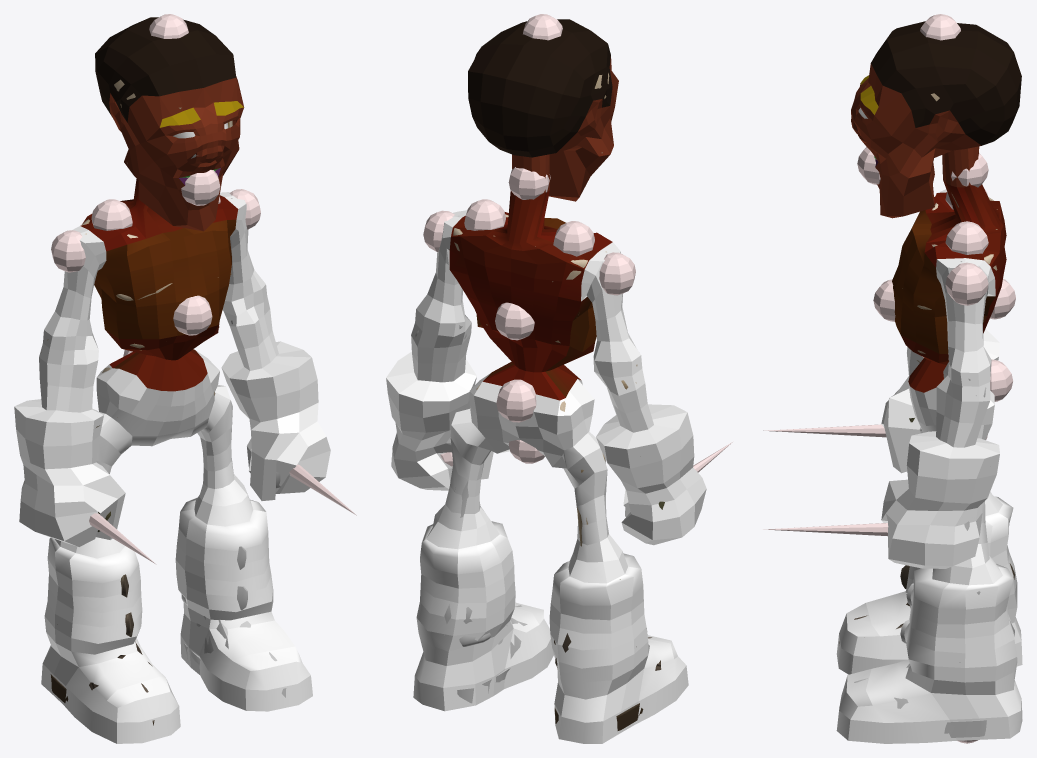
Rendered from LC_BazookaBones_Cage.fbx.
3 views of the same model, side by side, from view 1: azimuth 30°, elevation 25°; view 2: azimuth 150°, elevation 25°; view 3: azimuth 270°, elevation 25° (orthographic).
Parts seen in each view (by area): view 1: Head_OuterCage, UpperTorso_OuterCage, RightFoot_OuterCage, LeftFoot_OuterCage, LeftLowerLeg_OuterCage, RightLowerLeg_OuterCage, RightLowerArm_OuterCage, LeftLowerArm_OuterCage, RightHand_OuterCage, LowerTorso_OuterCage, LeftHand_OuterCage, LeftUpperLeg_OuterCage (+11 smaller); view 2: Head_OuterCage, UpperTorso_OuterCage, RightLowerLeg_OuterCage, LeftLowerLeg_OuterCage, LeftFoot_OuterCage, RightFoot_OuterCage, RightLowerArm_OuterCage, LeftLowerArm_OuterCage, LowerTorso_OuterCage, RightUpperLeg_OuterCage, LeftUpperLeg_OuterCage, RightHand_OuterCage (+12 smaller); view 3: Head_OuterCage, LeftFoot_OuterCage, UpperTorso_OuterCage, LeftLowerLeg_OuterCage, LeftLowerArm_OuterCage, LeftHand_OuterCage, RightFoot_OuterCage, LeftUpperArm_OuterCage, RightHand_OuterCage, LeftUpperLeg_OuterCage, RightLowerLeg_OuterCage, LeftShoulder_Att (+12 smaller).
Part boxes in pixels (left/top/right/bottom): Head_OuterCage: left=95, top=17, right=244, bottom=231; UpperTorso_OuterCage: left=80, top=179, right=238, bottom=391; RightFoot_OuterCage: left=41, top=632, right=180, bottom=743; LeftFoot_OuterCage: left=180, top=602, right=312, bottom=711; LeftLowerLeg_OuterCage: left=175, top=497, right=273, bottom=620; RightLowerLeg_OuterCage: left=44, top=537, right=142, bottom=654; RightLowerArm_OuterCage: left=14, top=343, right=103, bottom=469; LeftLowerArm_OuterCage: left=221, top=296, right=318, bottom=422; RightHand_OuterCage: left=19, top=456, right=125, bottom=546; LowerTorso_OuterCage: left=96, top=350, right=219, bottom=446; LeftHand_OuterCage: left=241, top=402, right=330, bottom=500; LeftUpperLeg_OuterCage: left=194, top=384, right=253, bottom=526; Head_OuterCage: left=468, top=19, right=618, bottom=201; UpperTorso_OuterCage: left=449, top=190, right=612, bottom=400; RightLowerLeg_OuterCage: left=549, top=553, right=648, bottom=682; LeftLowerLeg_OuterCage: left=416, top=521, right=515, bottom=651; LeftFoot_OuterCage: left=413, top=602, right=553, bottom=711; RightFoot_OuterCage: left=554, top=635, right=688, bottom=743; RightLowerArm_OuterCage: left=595, top=369, right=694, bottom=488; LeftLowerArm_OuterCage: left=386, top=323, right=476, bottom=432; LowerTorso_OuterCage: left=469, top=373, right=594, bottom=466; RightUpperLeg_OuterCage: left=552, top=431, right=627, bottom=583; LeftUpperLeg_OuterCage: left=426, top=409, right=499, bottom=549; RightHand_OuterCage: left=621, top=457, right=706, bottom=545; Head_OuterCage: left=851, top=21, right=1021, bottom=218; LeftFoot_OuterCage: left=836, top=659, right=1022, bottom=743; UpperTorso_OuterCage: left=892, top=180, right=1006, bottom=392; LeftLowerLeg_OuterCage: left=906, top=564, right=1017, bottom=682; LeftLowerArm_OuterCage: left=906, top=372, right=999, bottom=503; LeftHand_OuterCage: left=881, top=479, right=987, bottom=568; RightFoot_OuterCage: left=836, top=591, right=1022, bottom=674; LeftUpperArm_OuterCage: left=936, top=258, right=995, bottom=386; RightHand_OuterCage: left=881, top=376, right=923, bottom=473; LeftUpperLeg_OuterCage: left=932, top=501, right=1002, bottom=585; RightLowerLeg_OuterCage: left=905, top=496, right=1017, bottom=609; LeftShoulder_Att: left=945, top=262, right=988, bottom=305.
Size of the model in its own units: 2.32 by 5.3 by 1.81.
